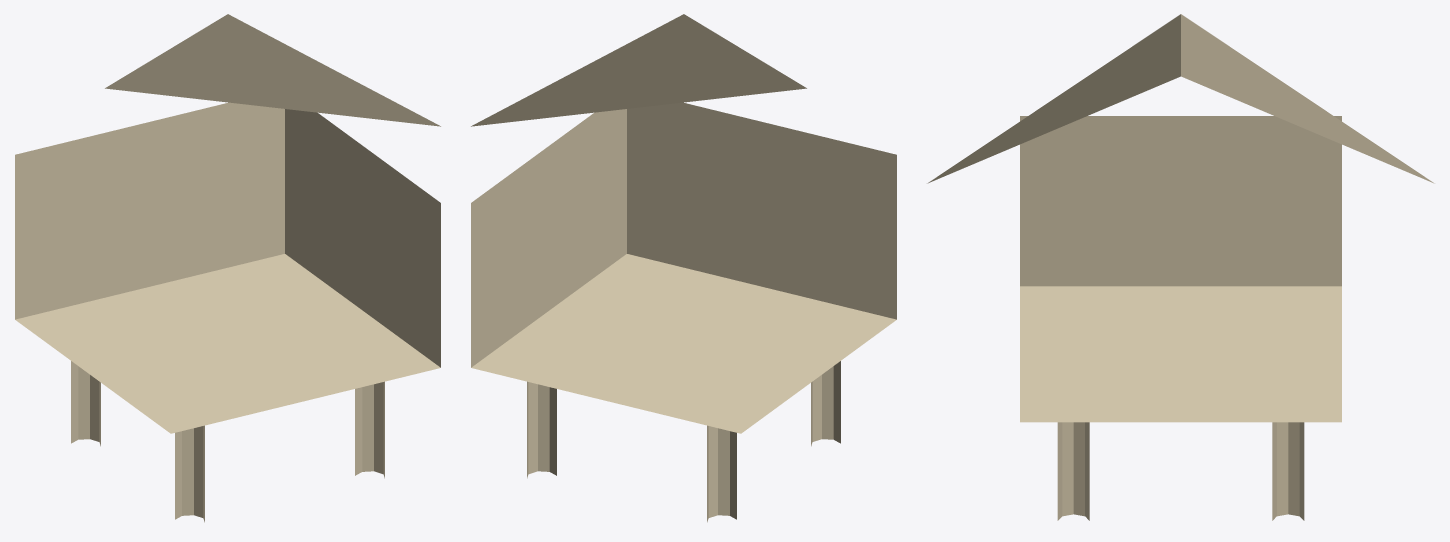
Rendered from sunda-rumah.glb.
The picture shows the model from 3 angles, left to right: view 1: azimuth 30°, elevation 25°; view 2: azimuth 150°, elevation 25°; view 3: azimuth 270°, elevation 25°; orthographic projection. The views are drawn at different scales.
Visible parts, largest first — view 1: sunda-rumah.glb; view 2: sunda-rumah.glb; view 3: sunda-rumah.glb.
Boxes of the visible parts, bbox=[...] form: sunda-rumah.glb: bbox=[15, 14, 440, 522]; sunda-rumah.glb: bbox=[471, 14, 896, 522]; sunda-rumah.glb: bbox=[927, 14, 1434, 520].
Size of the model in its own units: 1.9 by 1.9 by 1.9.
